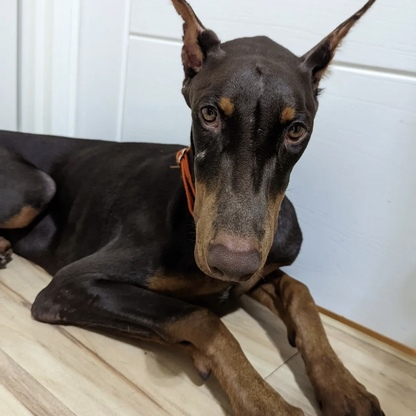doberman: (3, 6, 386, 416)
